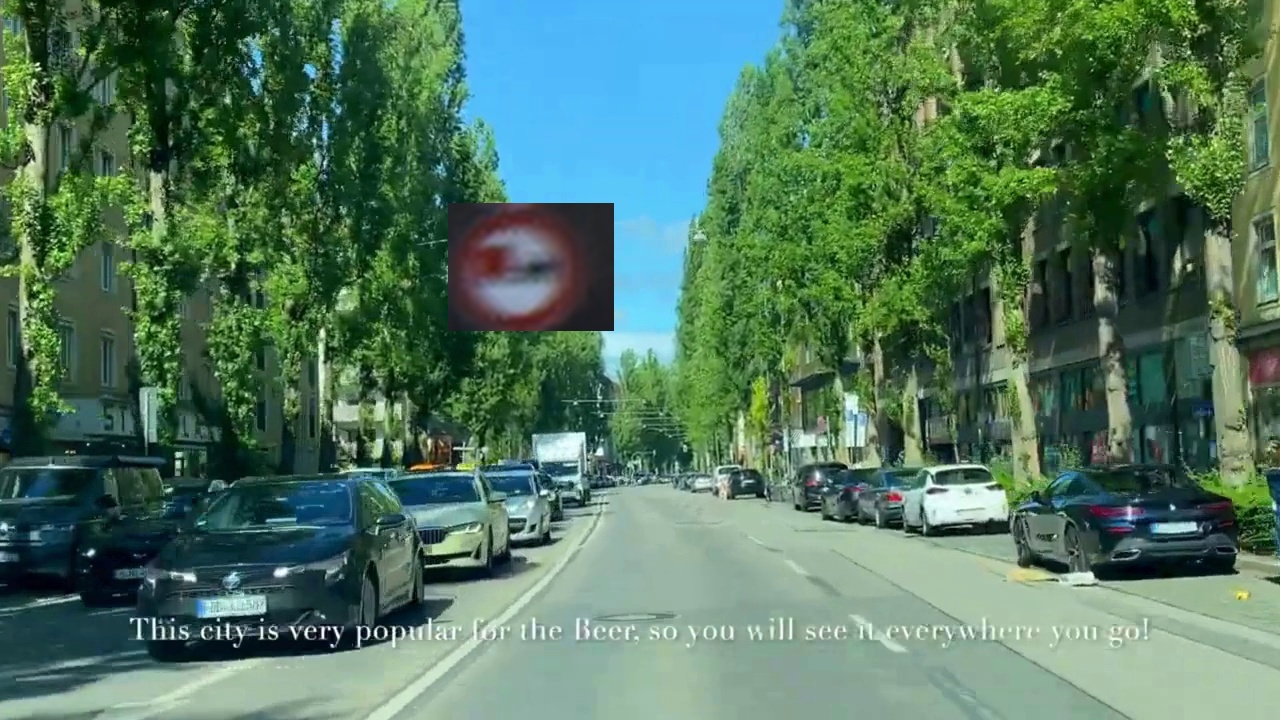No pass >3.5t: (448, 203, 614, 331)
